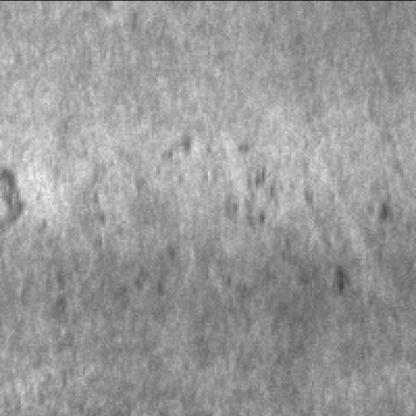rolled-in_scale: (35, 187, 190, 327), (173, 125, 291, 222)
